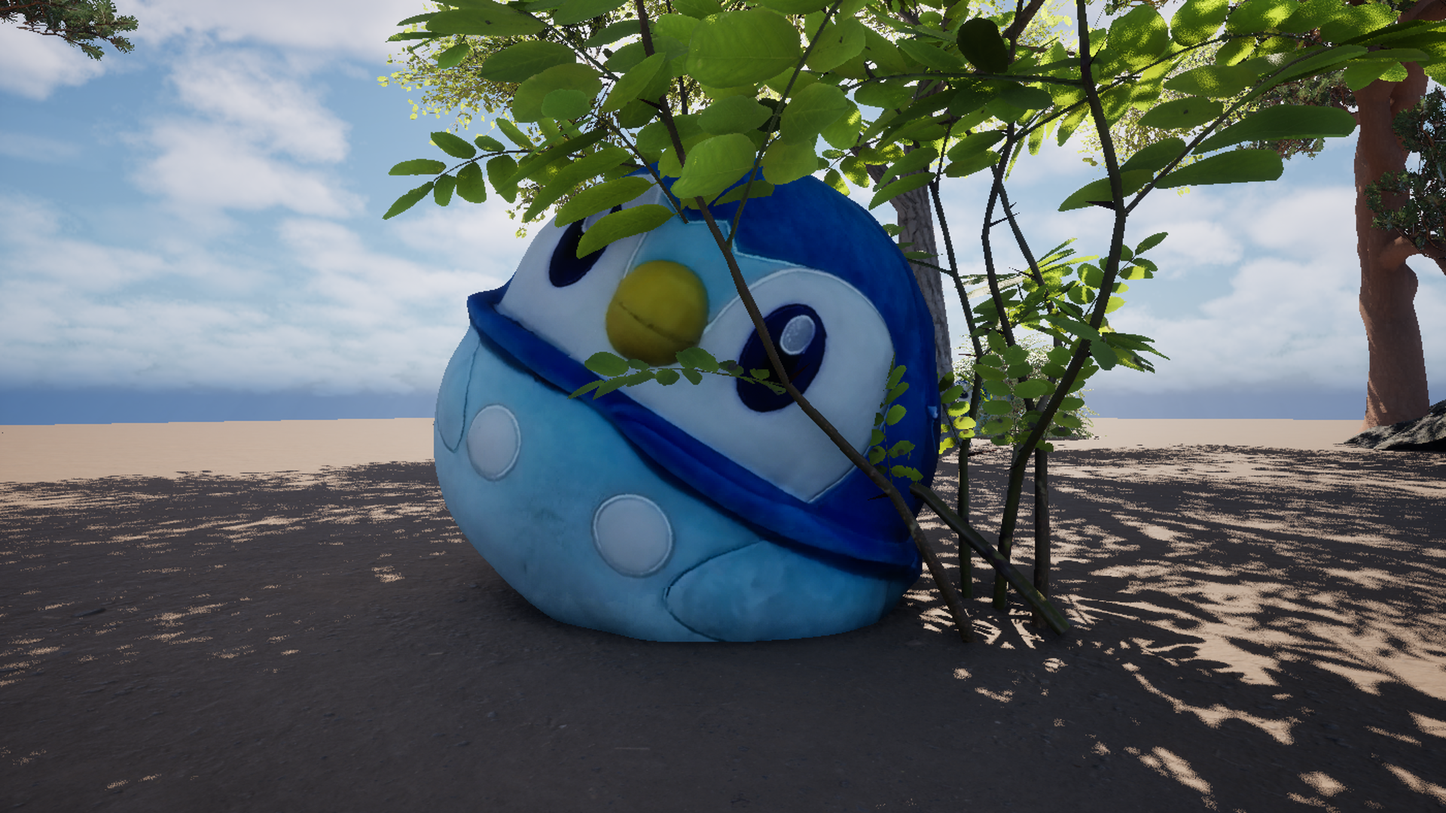Piplup: (303, 0, 1106, 813)
